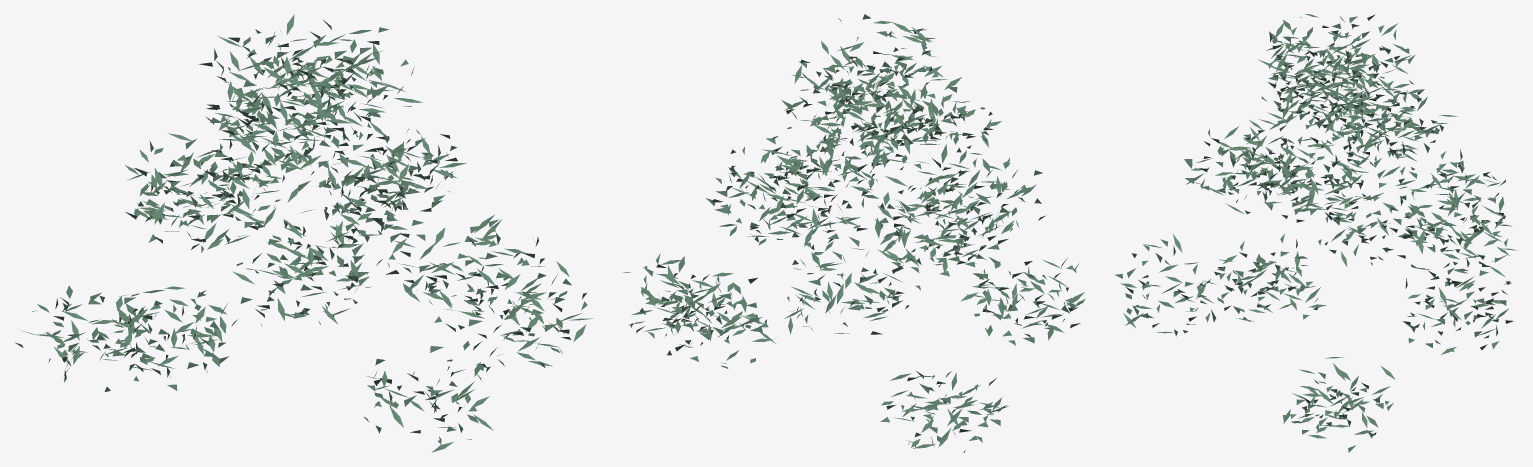
Rendered from teaching3-vegetation-09-medium.glb.
The picture shows the model from 3 angles, left to right: view 1: azimuth 30°, elevation 25°; view 2: azimuth 150°, elevation 25°; view 3: azimuth 270°, elevation 25°; orthographic projection. The views are drawn at different scales.
Visible parts, largest first — view 1: vegetation cedar leaves.003; view 2: vegetation cedar leaves.003; view 3: vegetation cedar leaves.003.
Boxes of the visible parts, x1,y1,x2,y2 form: vegetation cedar leaves.003: (15, 14, 593, 452); vegetation cedar leaves.003: (623, 14, 1085, 452); vegetation cedar leaves.003: (1114, 14, 1518, 452).
Bounding box in the file's own units: 11.95 × 8.81 × 10.06.
